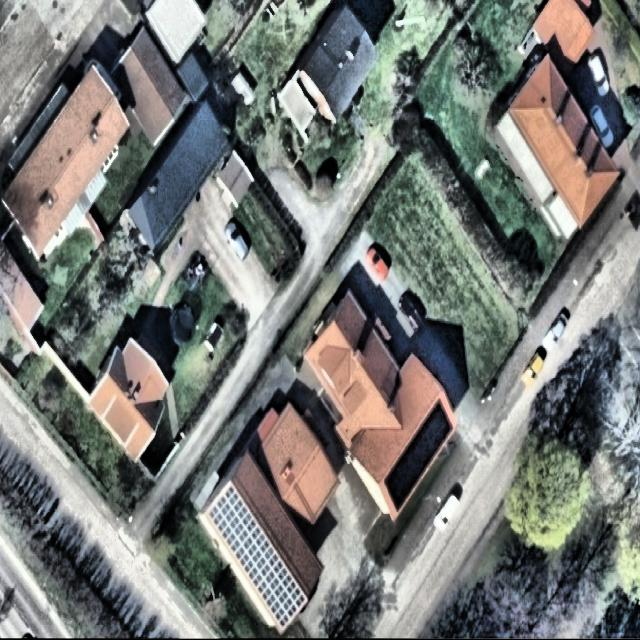roof_pv: (235, 528, 307, 628), (200, 484, 261, 553), (415, 394, 453, 472), (385, 443, 423, 514)
